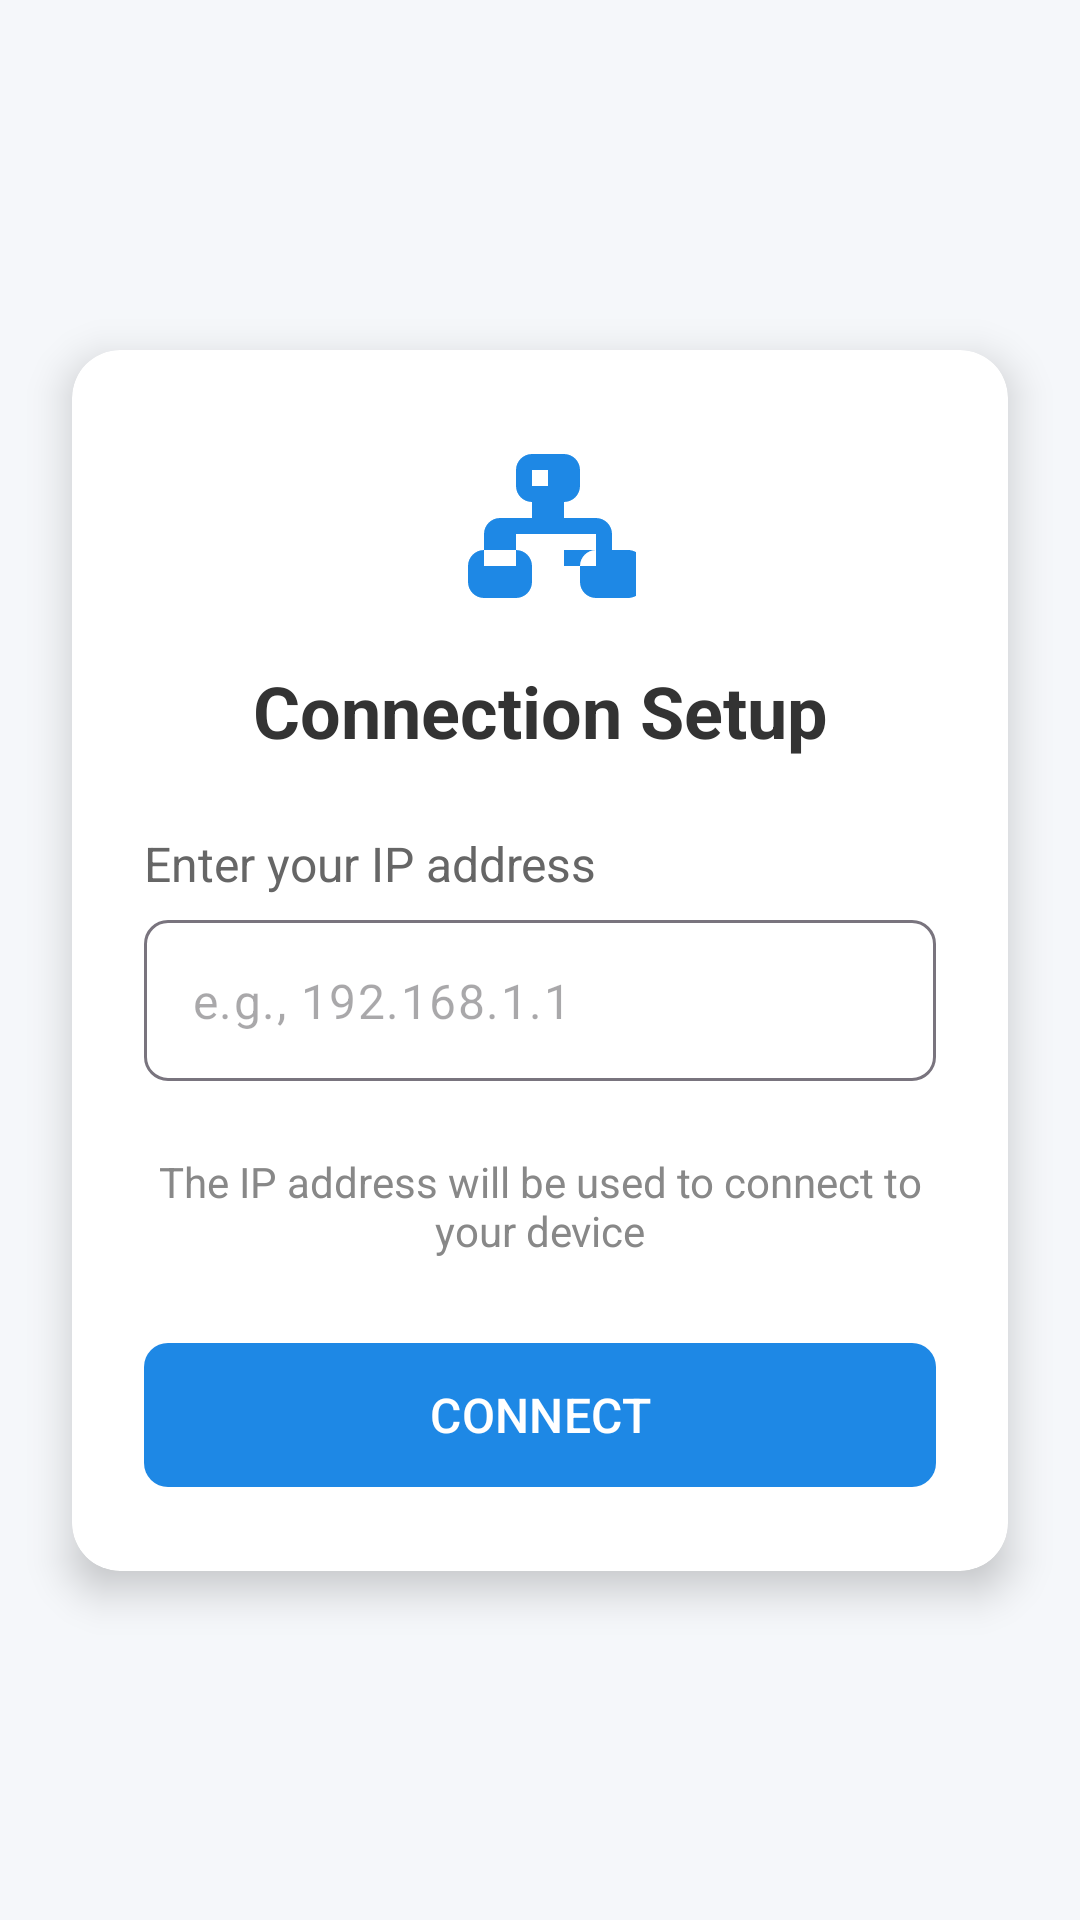

Locate icon controls on the screen. Image size 1080w x 1920h, boxes as (x1, y1, x2, y2).
Network icon: (468, 454, 636, 598)
